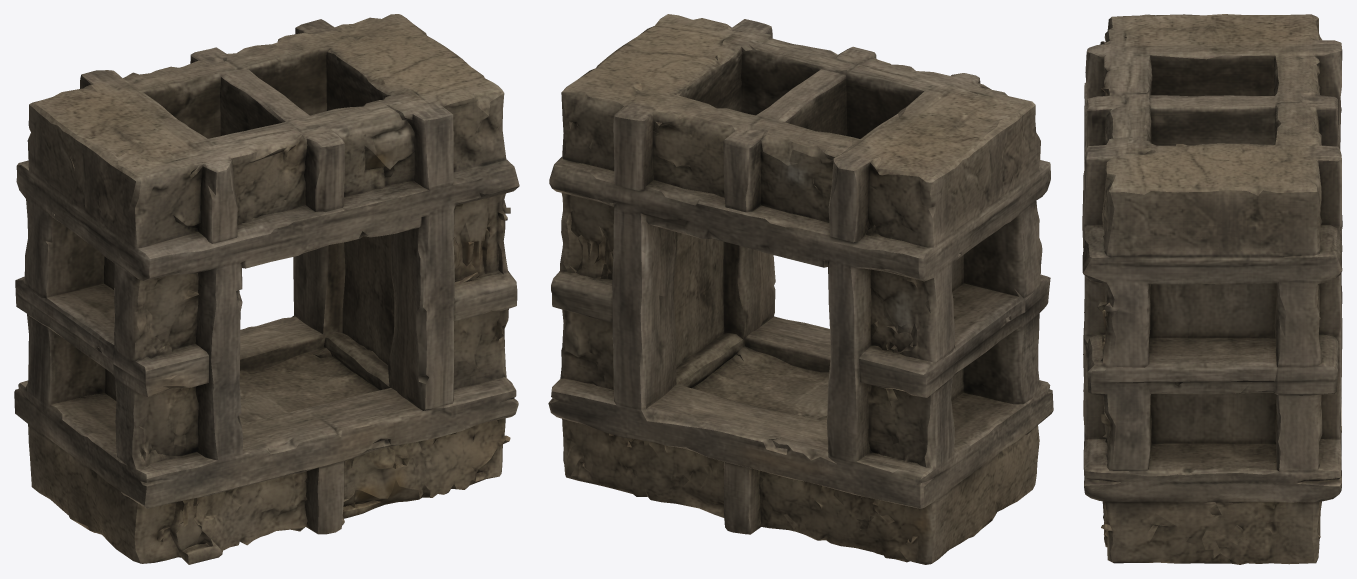
Rendered from jump_hatch.glb.
3 renders of one model, left to right at view 1: azimuth 30°, elevation 25°; view 2: azimuth 150°, elevation 25°; view 3: azimuth 270°, elevation 25°, orthographic. The views are drawn at different scales.
Parts seen in each view (by area): view 1: world; view 2: world; view 3: world.
Boxes of the visible parts, <box> form: world: <box>14,14,519,564</box>; world: <box>548,14,1053,564</box>; world: <box>1082,14,1342,564</box>.
Bounding box in the file's own units: 0.8 × 0.7989 × 0.4899.
1 material, 1 textured.
